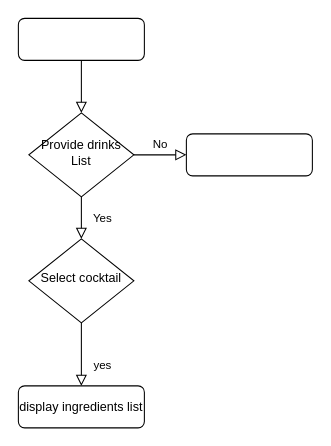
Image size: 331x446. Some labels were removed from this diagram. The shapes that lost their labels are listed below. From the top down, each one's box as (x1, y1, x2, y2) in pixels, then its label:
(17, 17, 144, 60): Search By Alcohol
(185, 133, 312, 176): error does not exist
